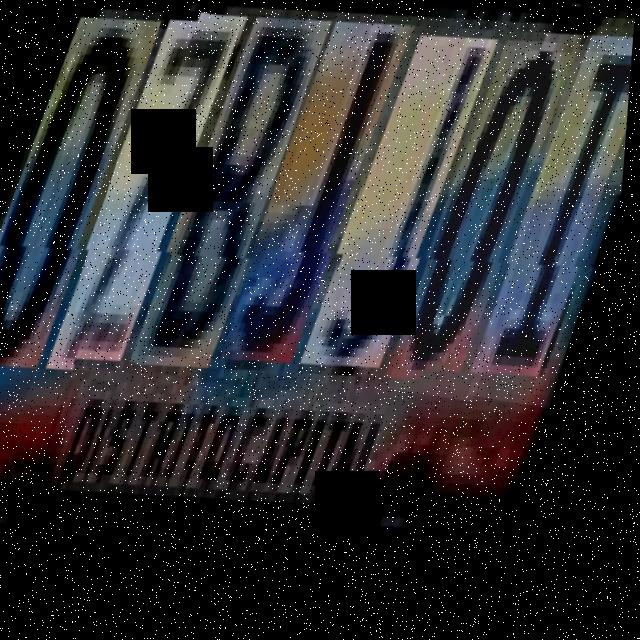B: (138, 11, 339, 395)
I: (472, 55, 634, 424)
J: (223, 19, 420, 393), (309, 36, 503, 401)
O: (392, 46, 584, 418), (0, 0, 172, 379)
Z: (58, 4, 253, 385)
